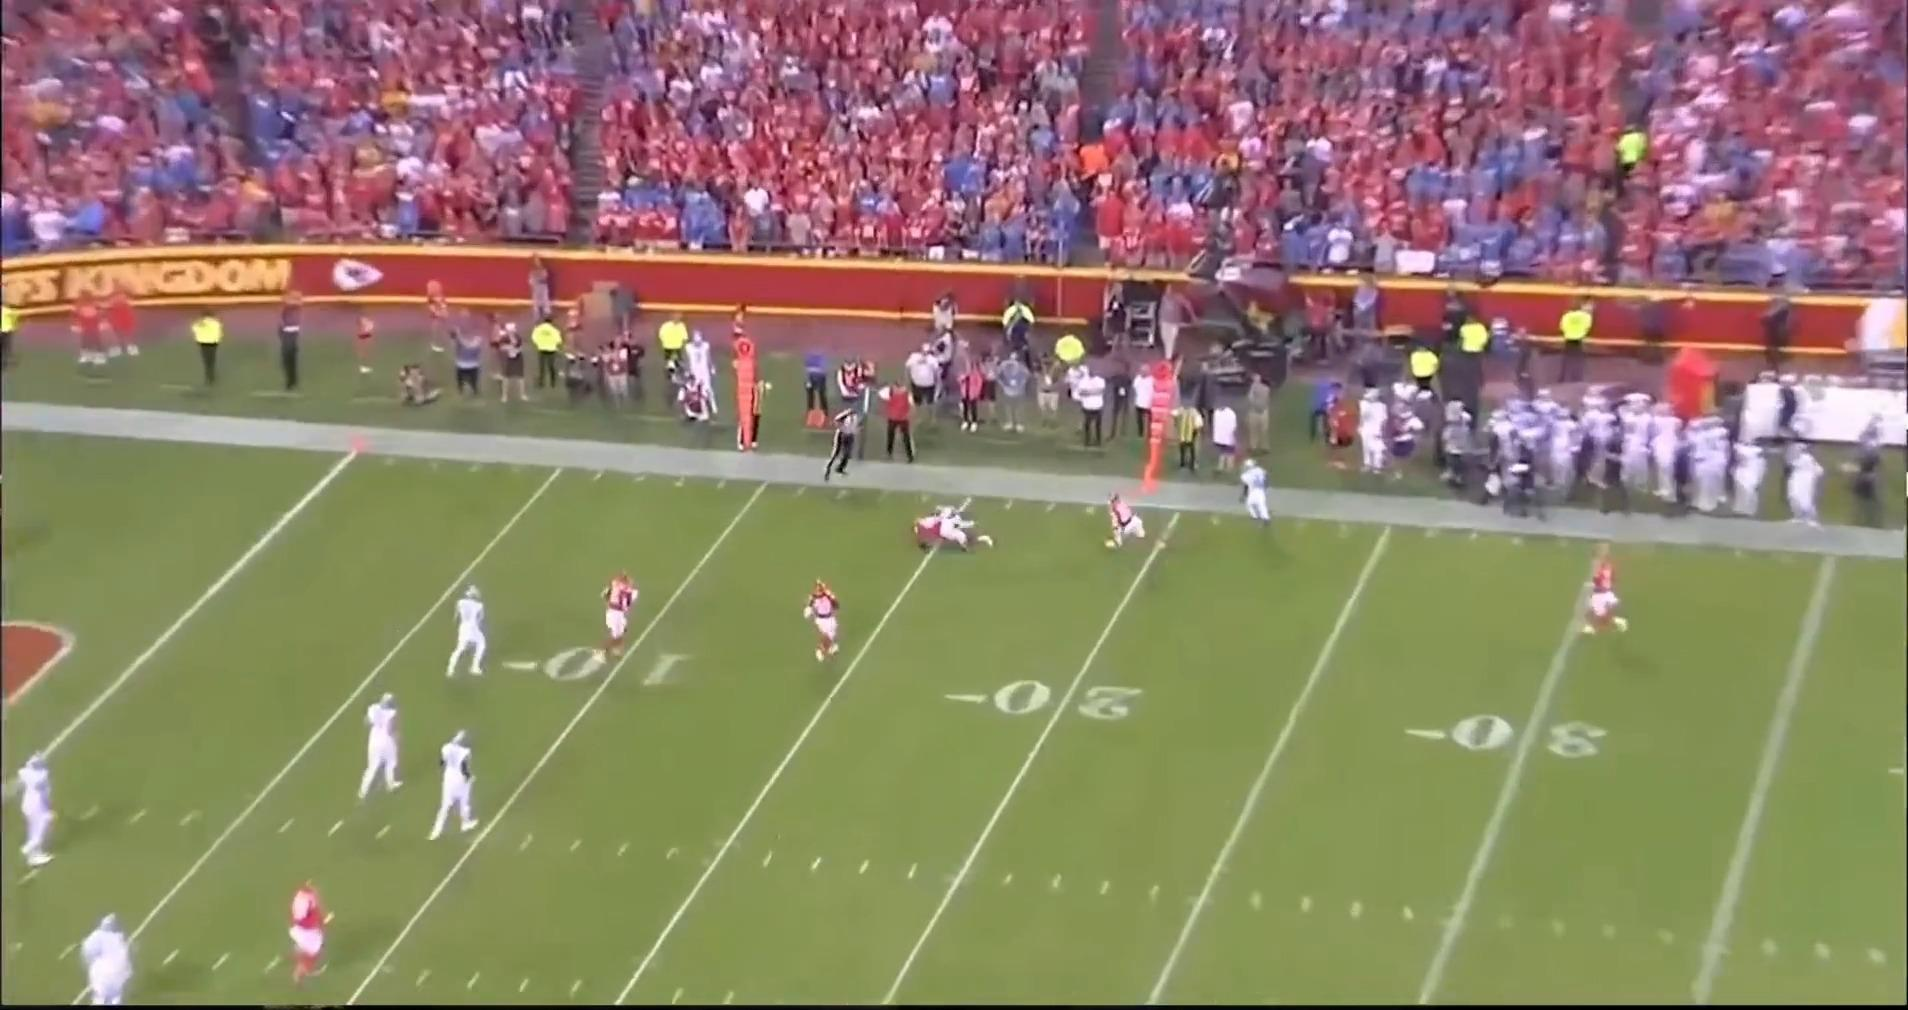defense: (281, 880, 331, 990), (1569, 557, 1624, 644), (910, 509, 991, 563), (1098, 486, 1155, 557), (602, 576, 646, 664), (809, 581, 853, 668)
oline: (23, 754, 69, 875), (356, 693, 406, 803), (72, 910, 130, 1004), (439, 730, 482, 840)
ref: (819, 401, 864, 482)
skill: (440, 578, 493, 677), (933, 500, 1002, 548), (1234, 454, 1276, 530)
